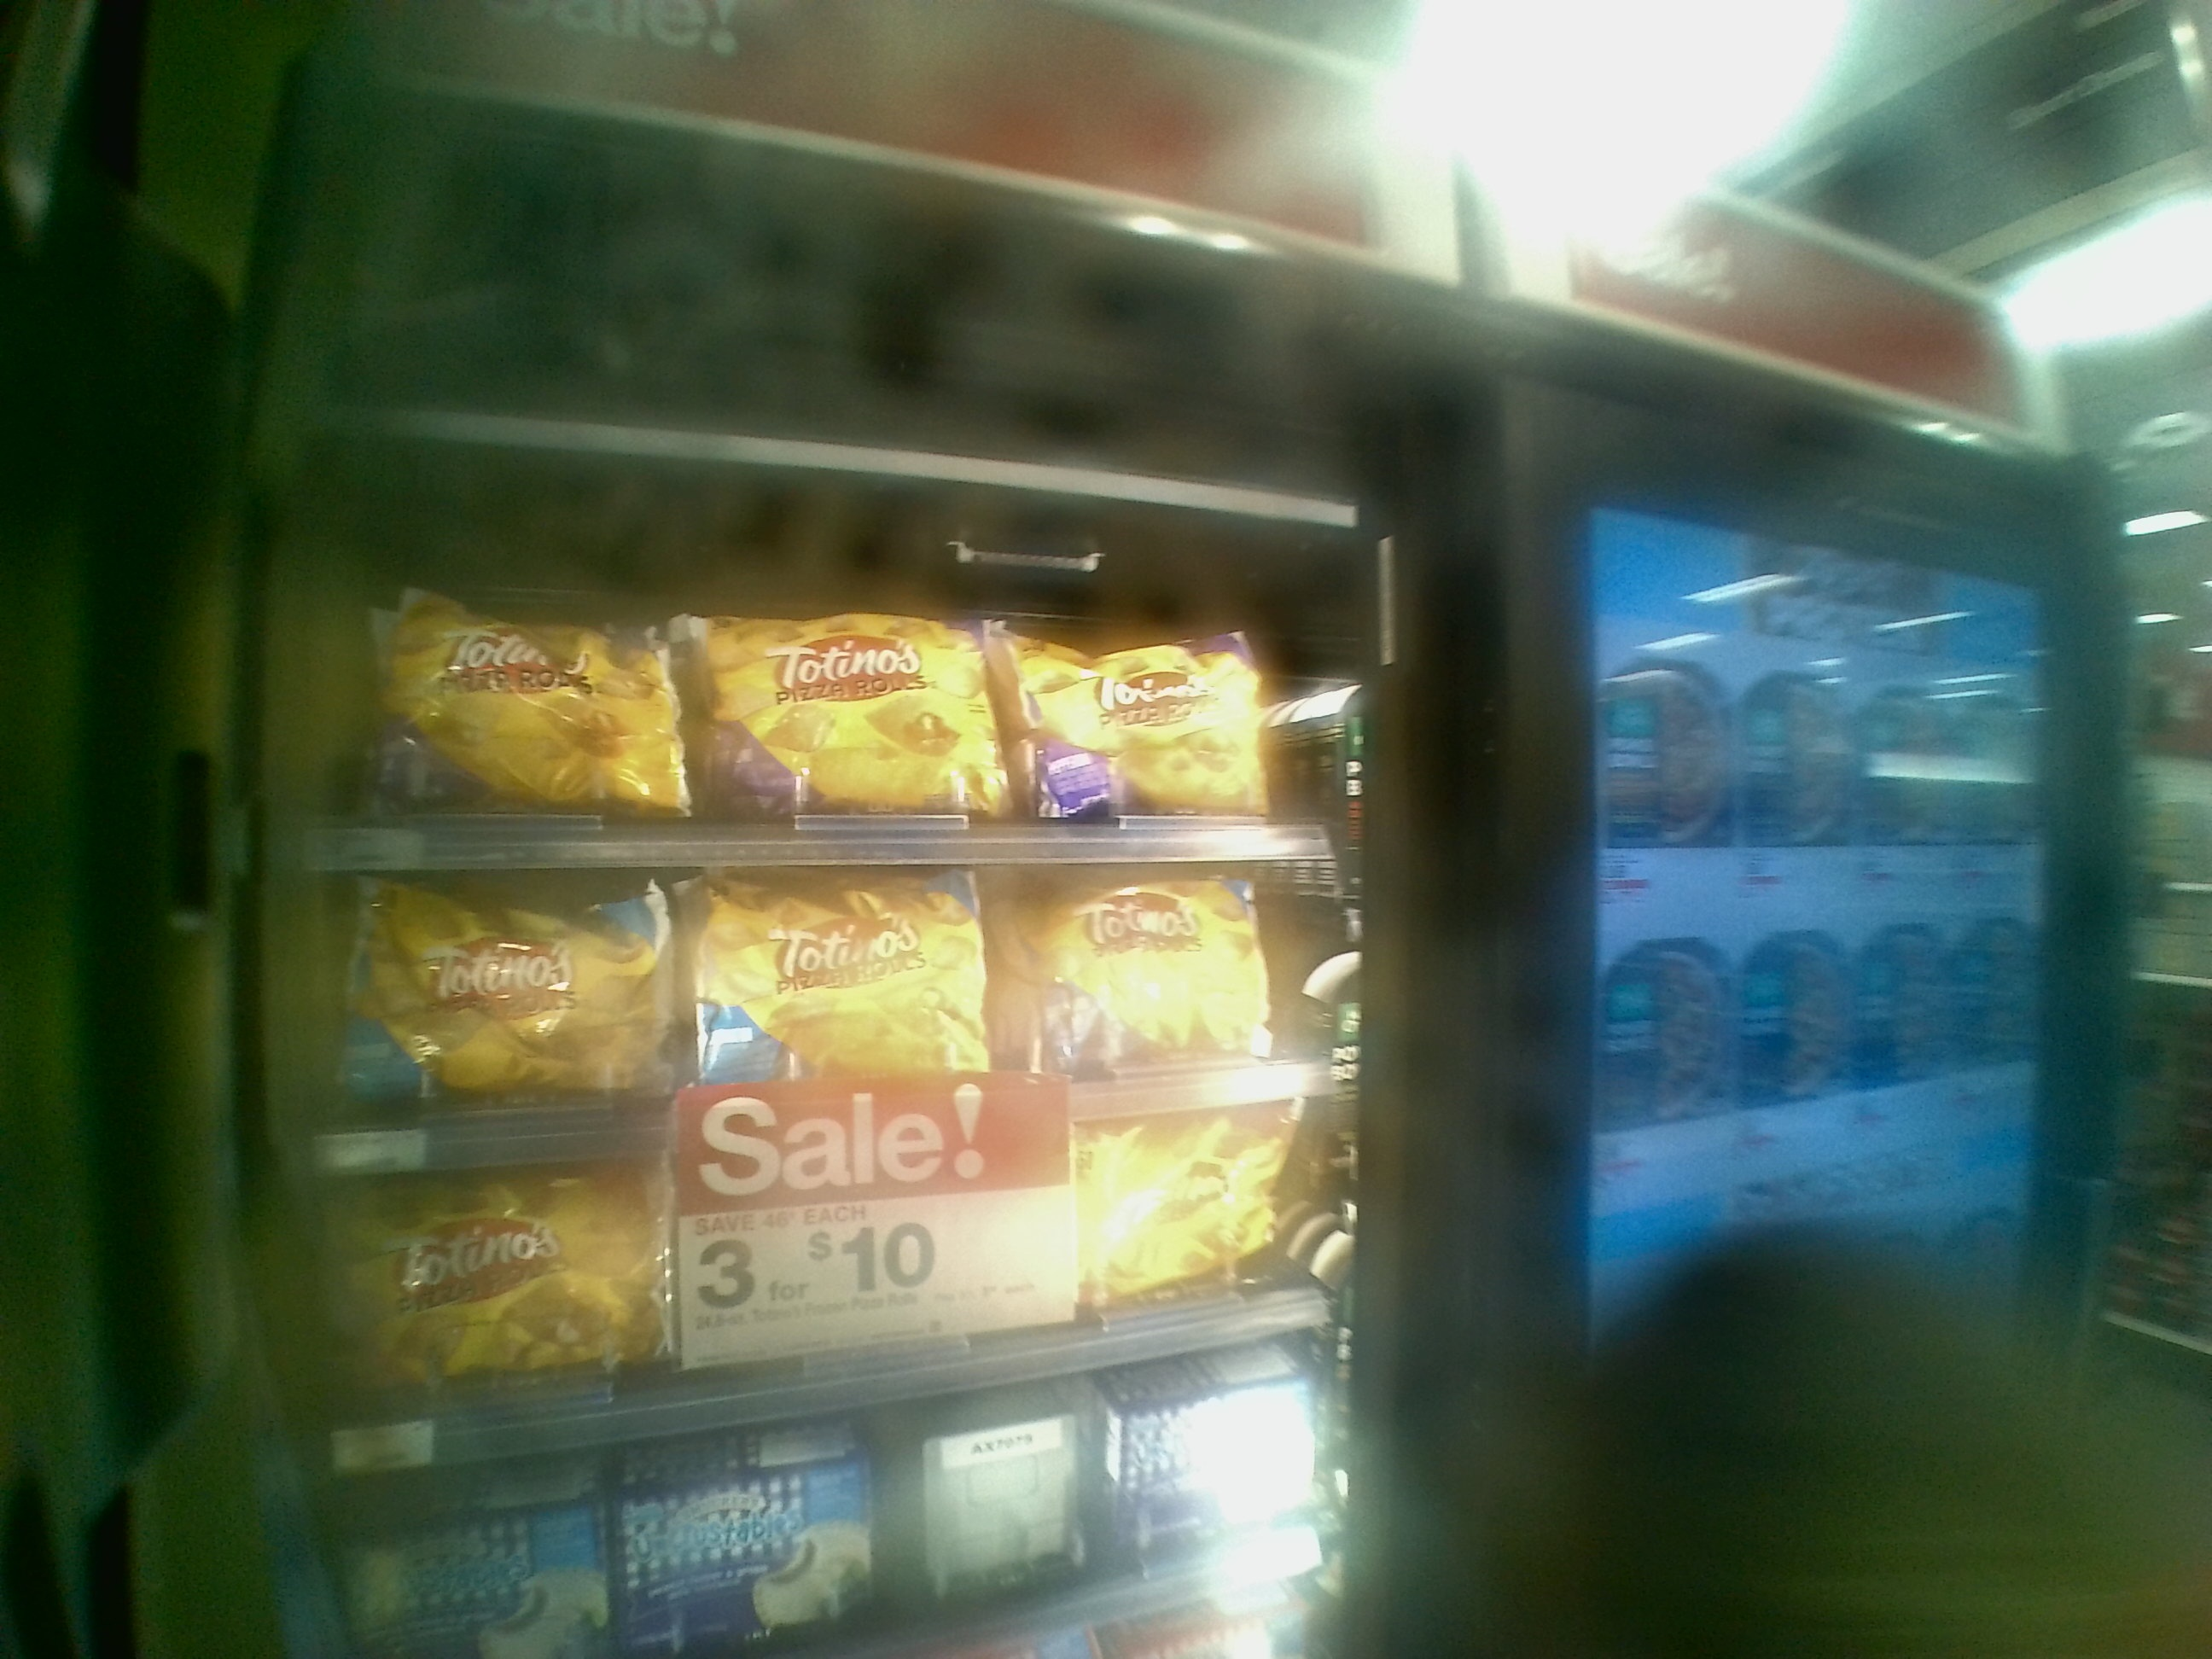shelf: (280, 1068, 1359, 1420)
